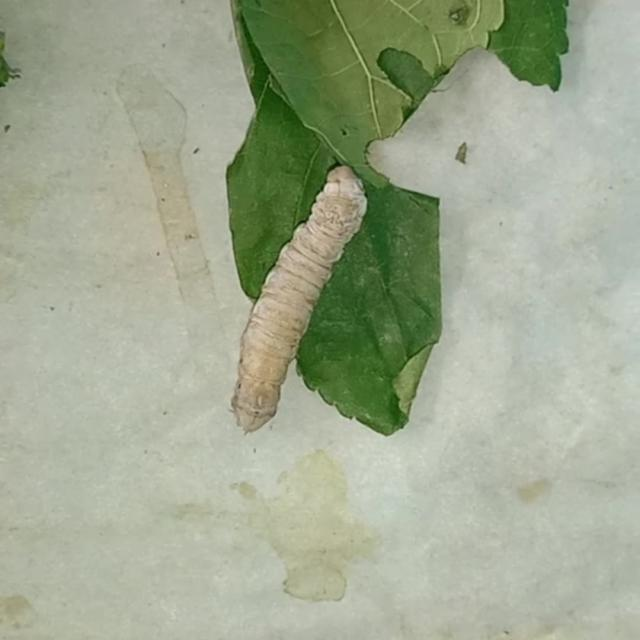Grasserie: (218, 160, 375, 443)
